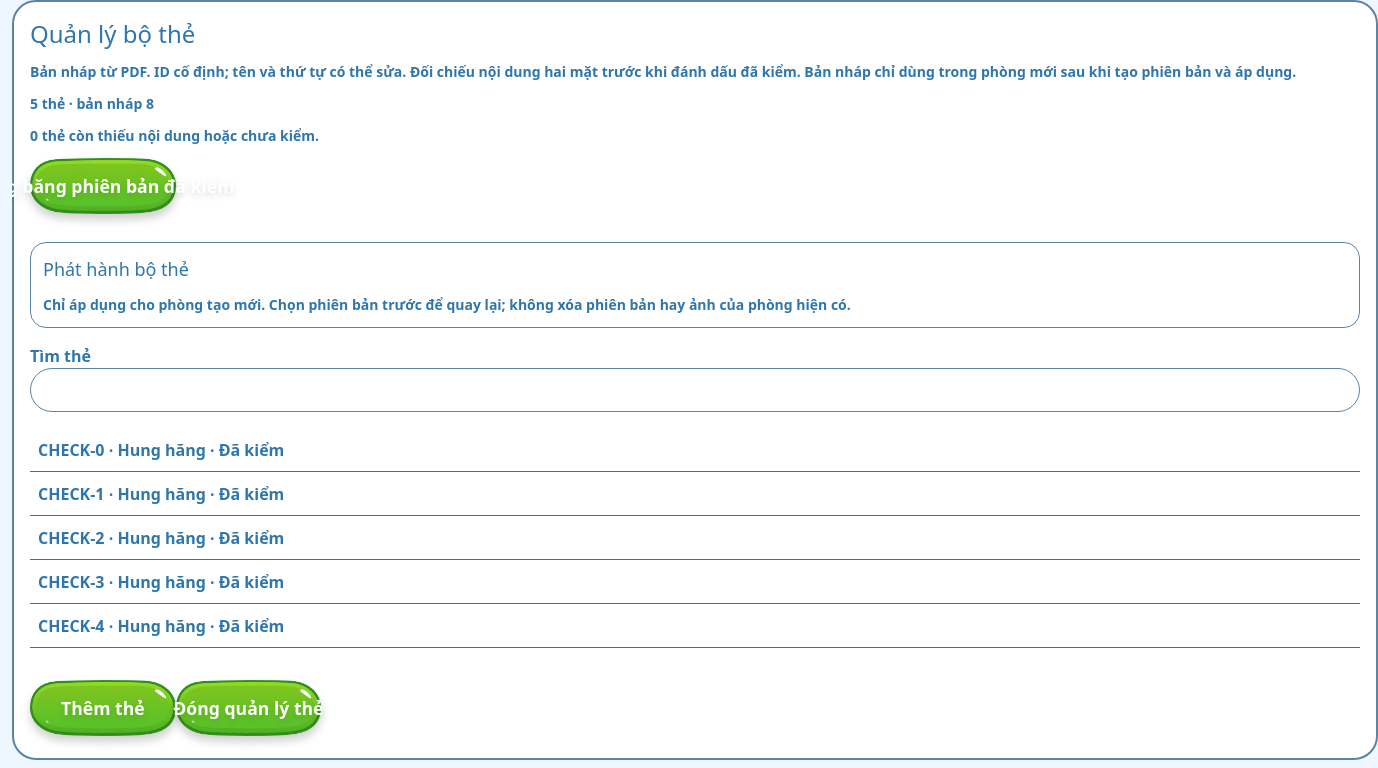
Scenario: does not retry an acknowledged version if the refresh fails afterwards
Click the button "Đóng băng phiên bản đã kiểm": x=103, y=186 [30,158,176,214]
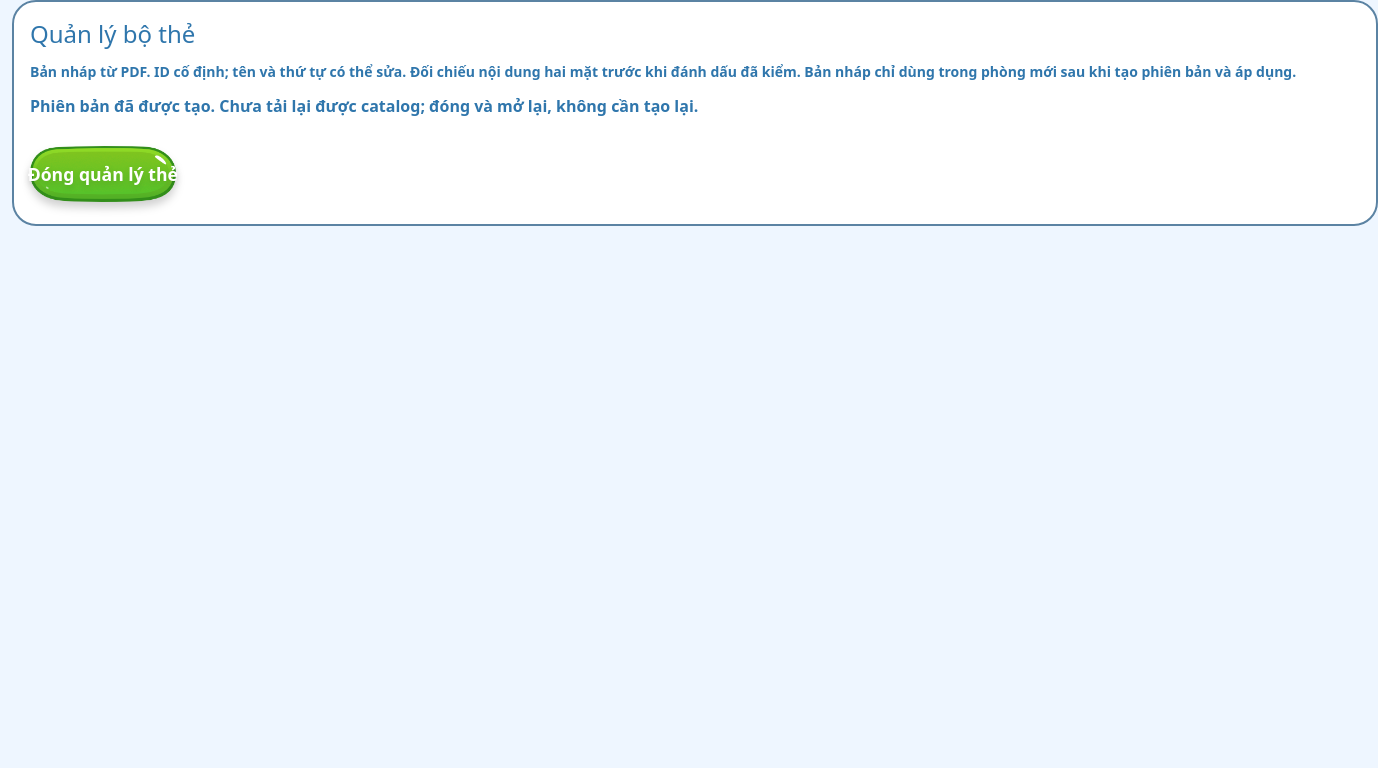
Expected: the button "Đóng quản lý thẻ" is enabled, [30,146,176,202]
Now the message shows "Phiên bản đã được tạo", box [30,95,698,117]
